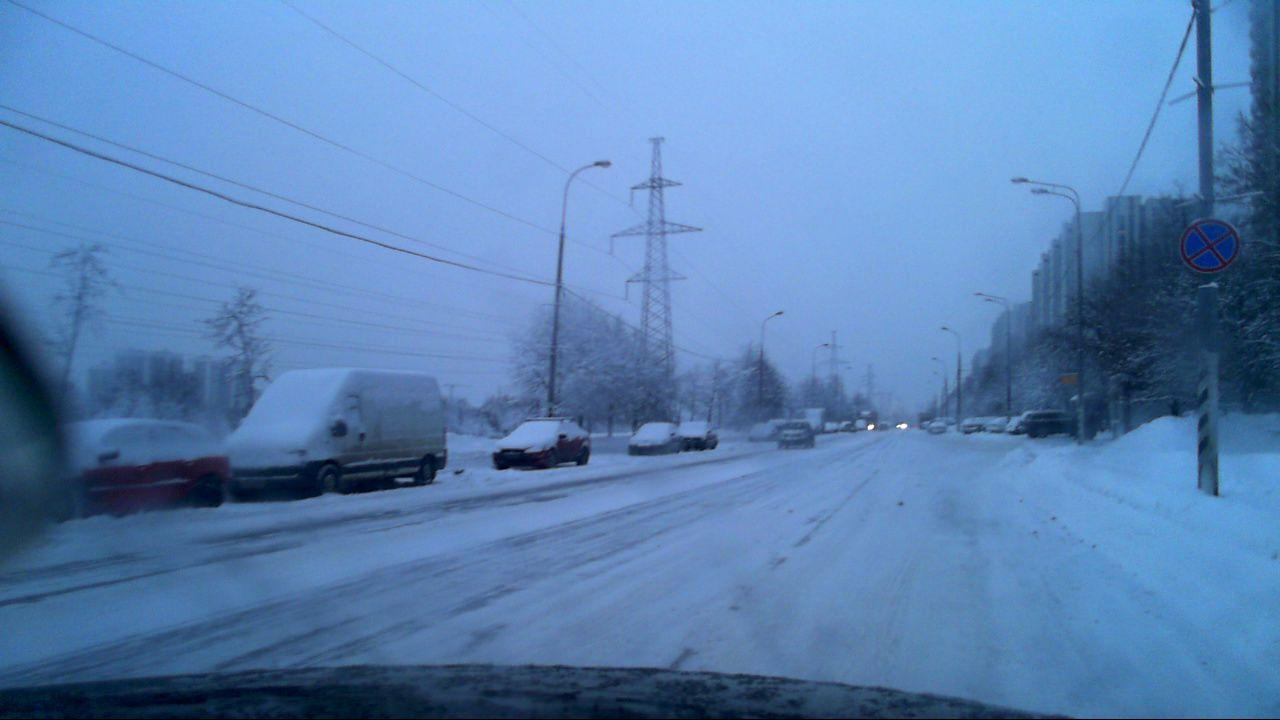road_sign: (1181, 216, 1239, 276)
